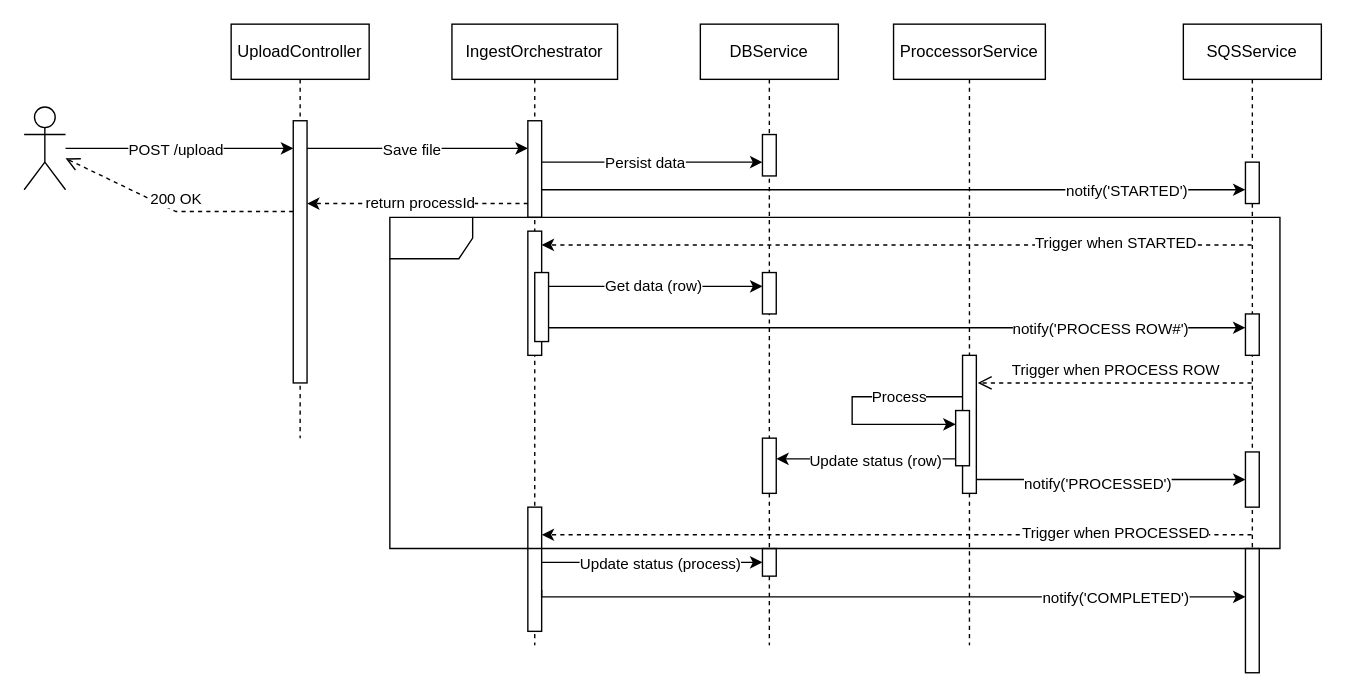
Image size: 1346x697. Some labels were removed from this diagram. The shapes that lost their labels are listed below. From the top down, each one's box as (x1, y1, x2, y2) in pixels, then its label:
(23, 106, 66, 190): Actor
(388, 216, 1280, 549): loop
